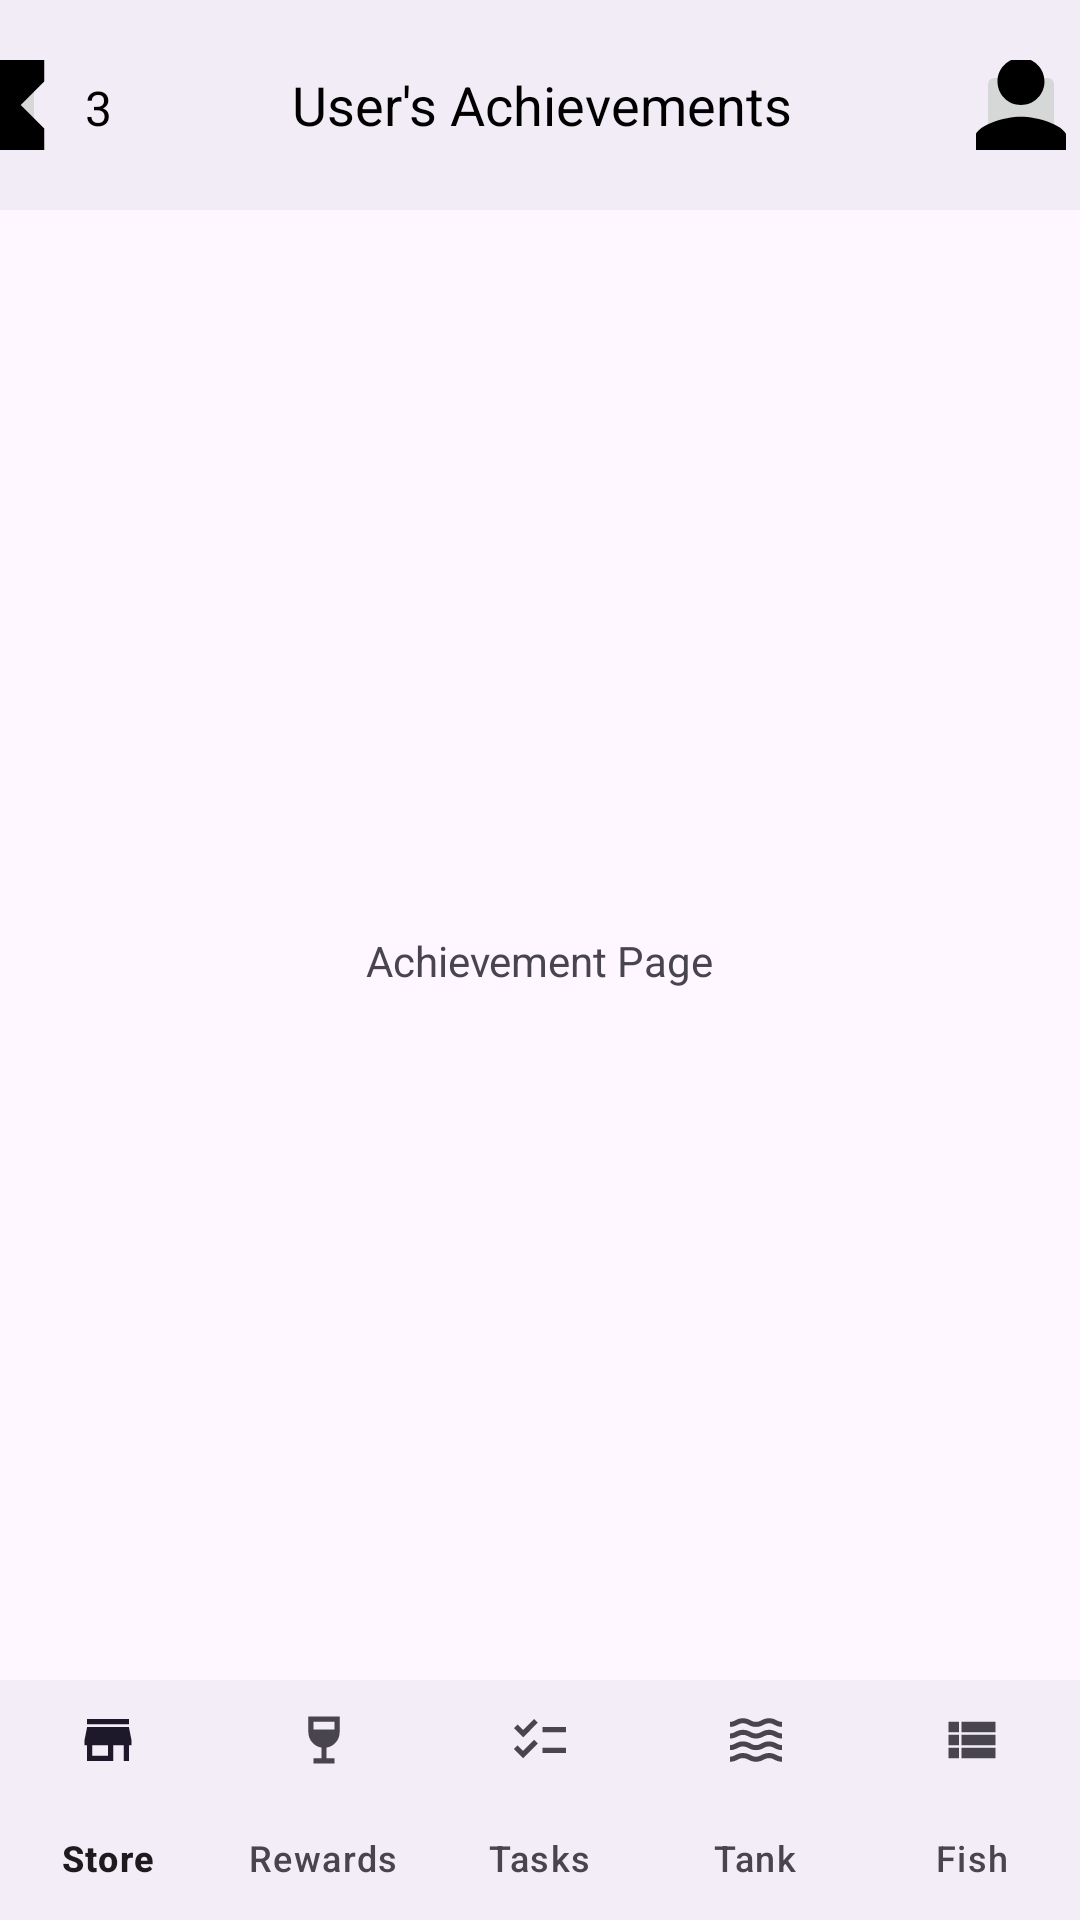

Icon click points for this 1080x1920 phone screenshot, format [x,y]:
profile: [1021,105]
